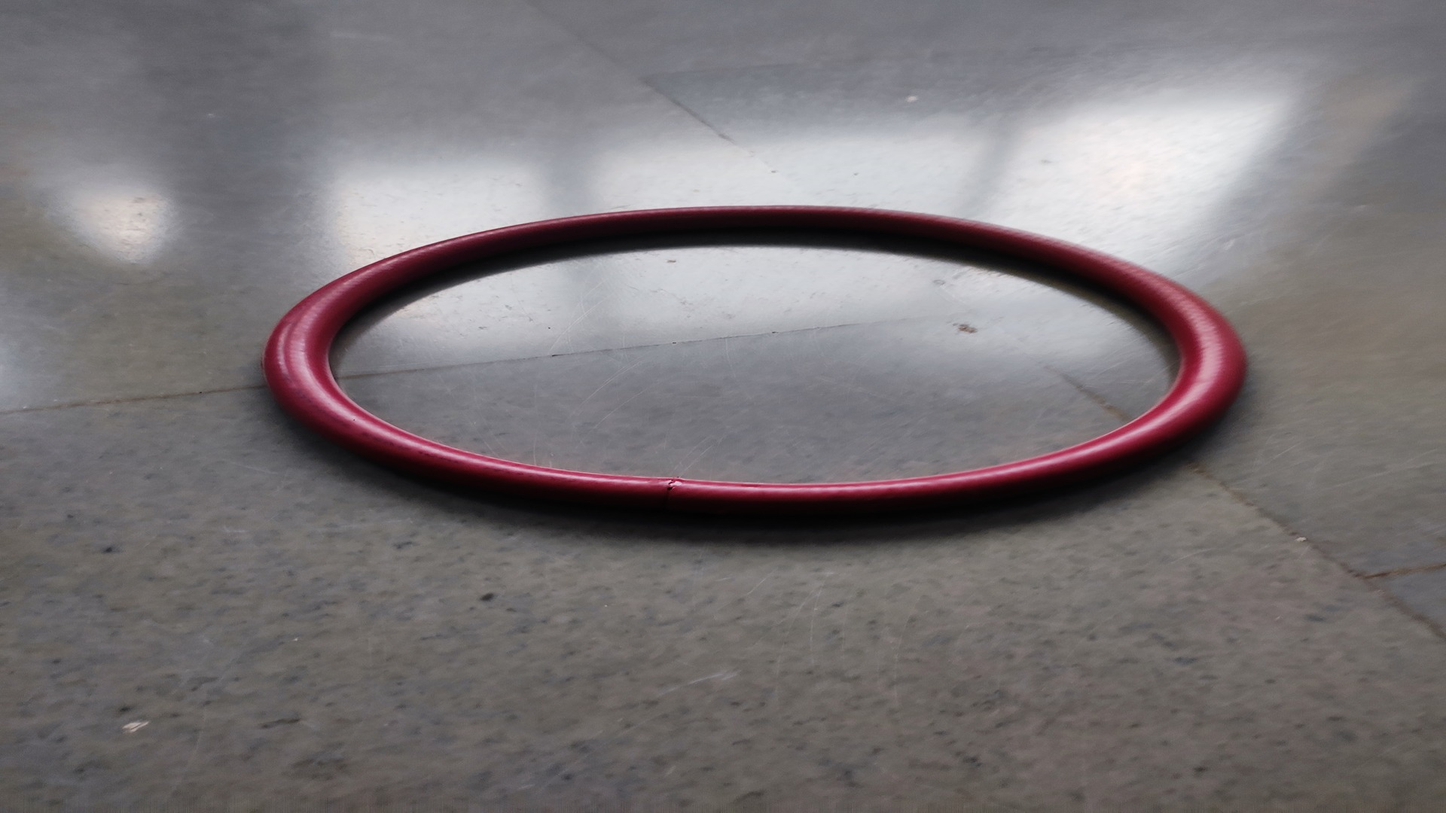Red ring: (259, 208, 1246, 516)
